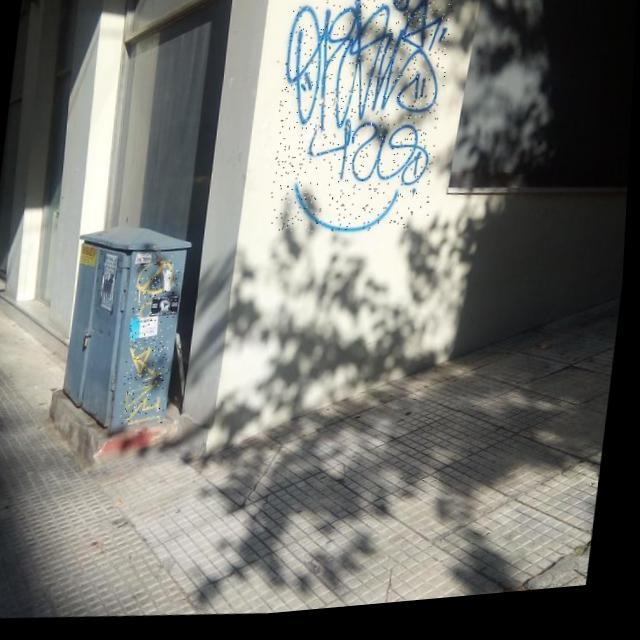-: (266, 0, 458, 249), (122, 258, 184, 431)
